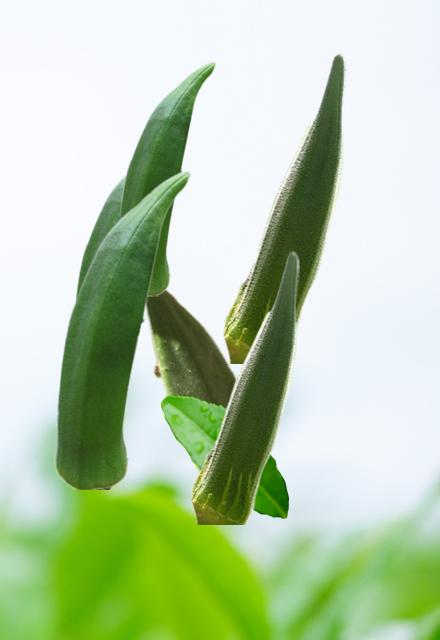okra: (53, 170, 190, 488), (222, 51, 345, 362), (190, 250, 298, 523), (119, 61, 215, 295), (145, 288, 236, 474), (74, 175, 124, 300)
